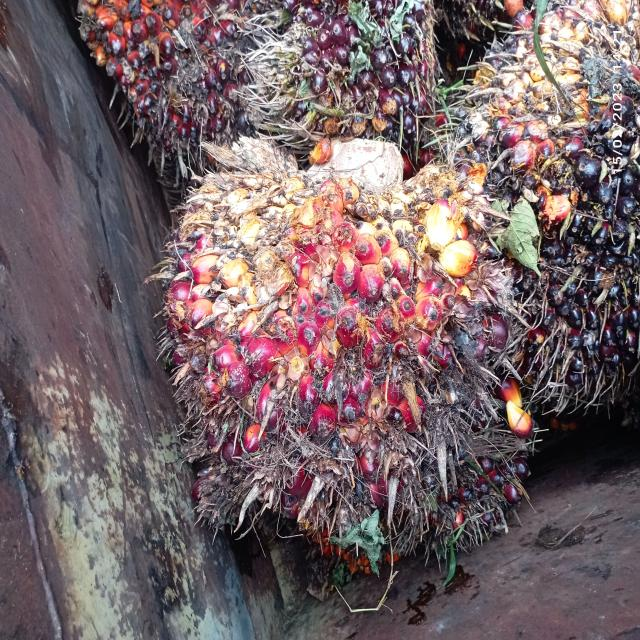fraksi 00: (418, 0, 640, 431)
fraksi 1: (140, 104, 550, 570)
